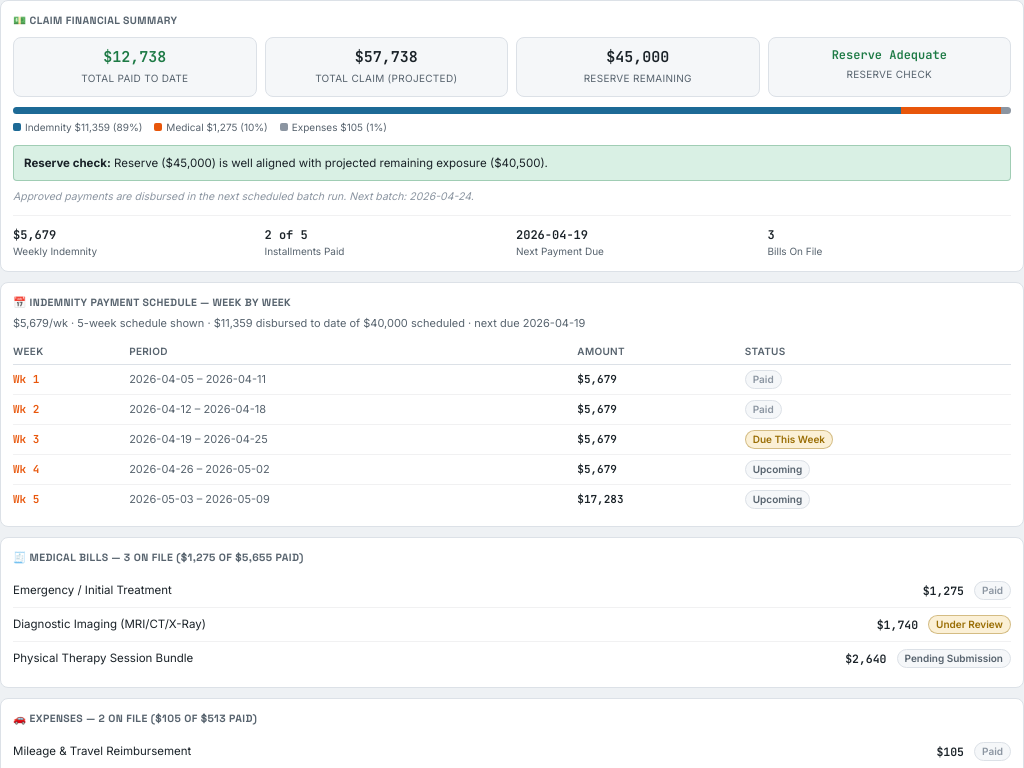
Scenario: approving a week re-renders the sheet from the response, not from a copy
Click the button with test id "schedule-week-button" showing "Wk 3" at (26,440), box [13,431,39,448]
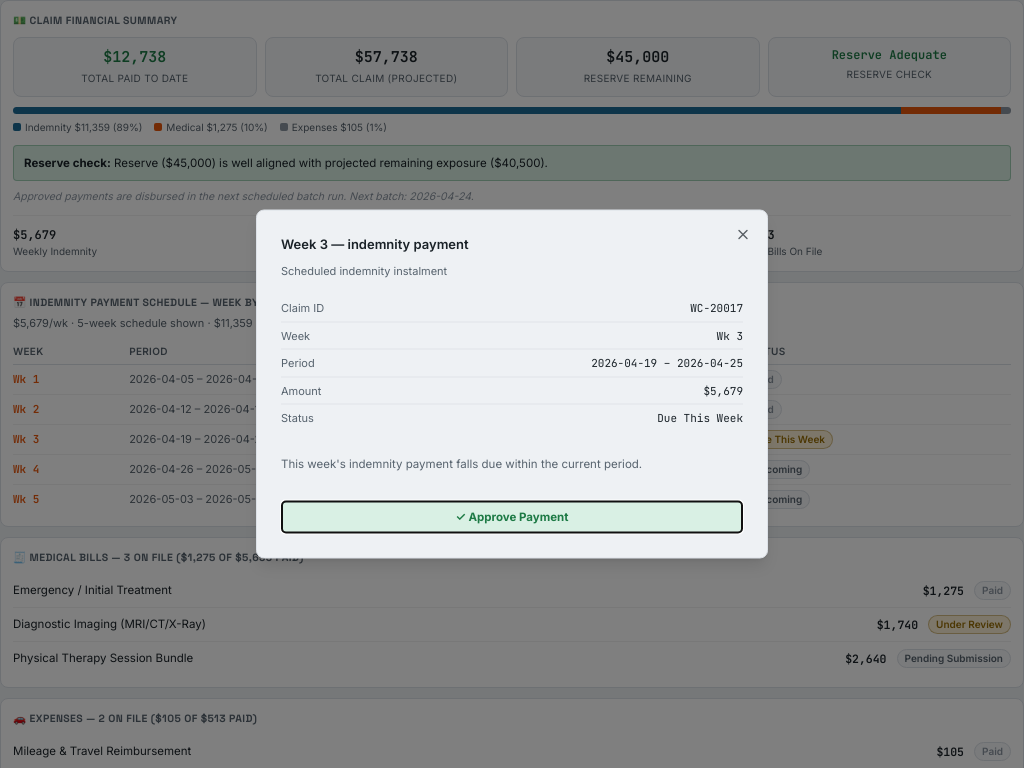
Click the button with test id "approve-payment" at (512,517), box [281,500,743,534]
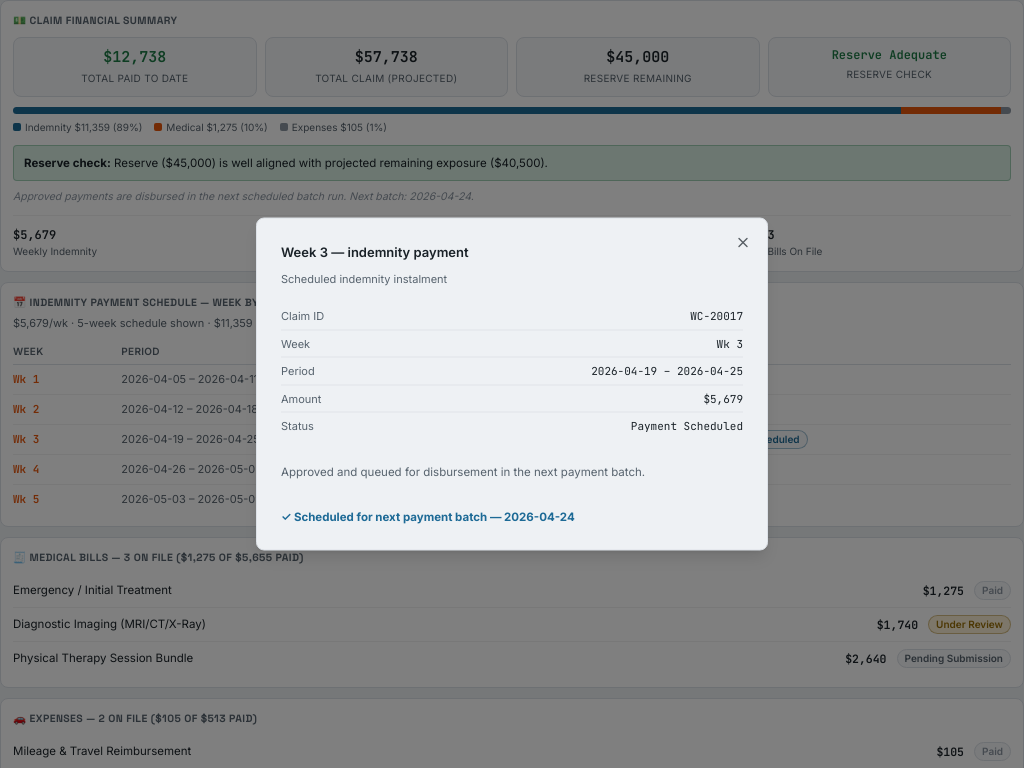
Expected: the text with test id "approve-scheduled" shows "Scheduled for next payment batch", [281,509,504,523]
Expected: the button with test id "approve-payment" is gone
Expected: the message with test id "line-sheet-note" shows "queued for disbursement", [281,464,645,478]
